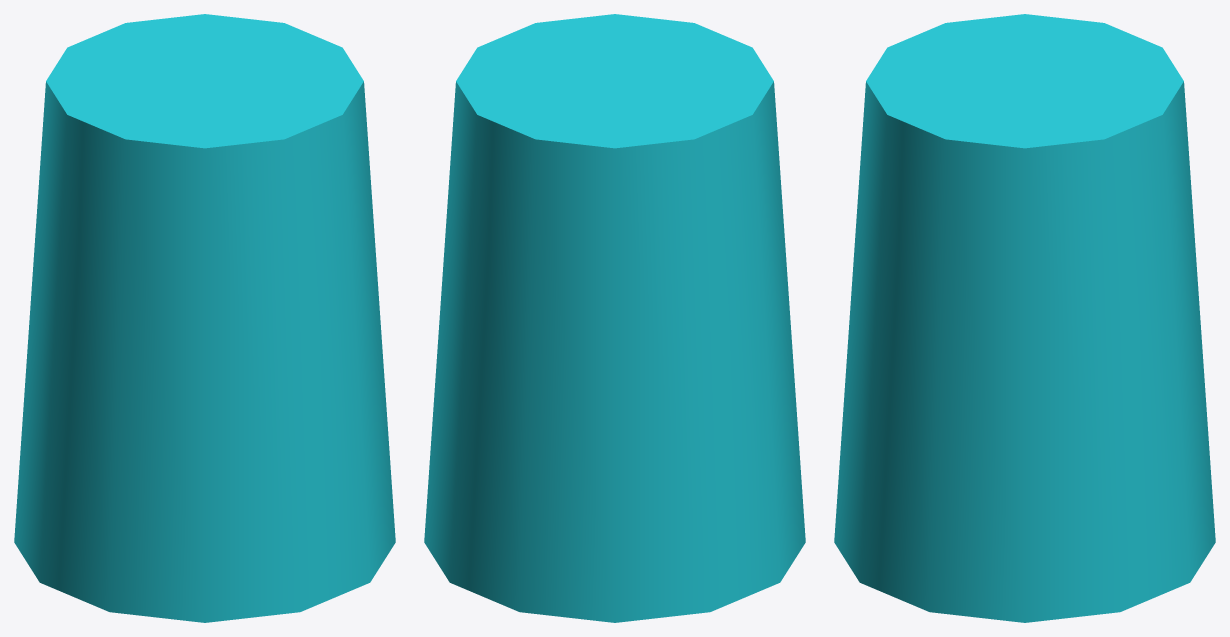
The model's file is emergency_shower.glb.
3 renders of one model, left to right at view 1: azimuth 30°, elevation 25°; view 2: azimuth 150°, elevation 25°; view 3: azimuth 270°, elevation 25°, orthographic.
Parts seen in each view (by area): view 1: emergency_shower-node; view 2: emergency_shower-node; view 3: emergency_shower-node.
Boxes of the visible parts, x1=… form: emergency_shower-node: x1=14, y1=14, x2=395, y2=622; emergency_shower-node: x1=424, y1=14, x2=805, y2=622; emergency_shower-node: x1=834, y1=14, x2=1215, y2=622.
Bounding box in the file's own units: 0.6 × 0.8 × 0.6.
